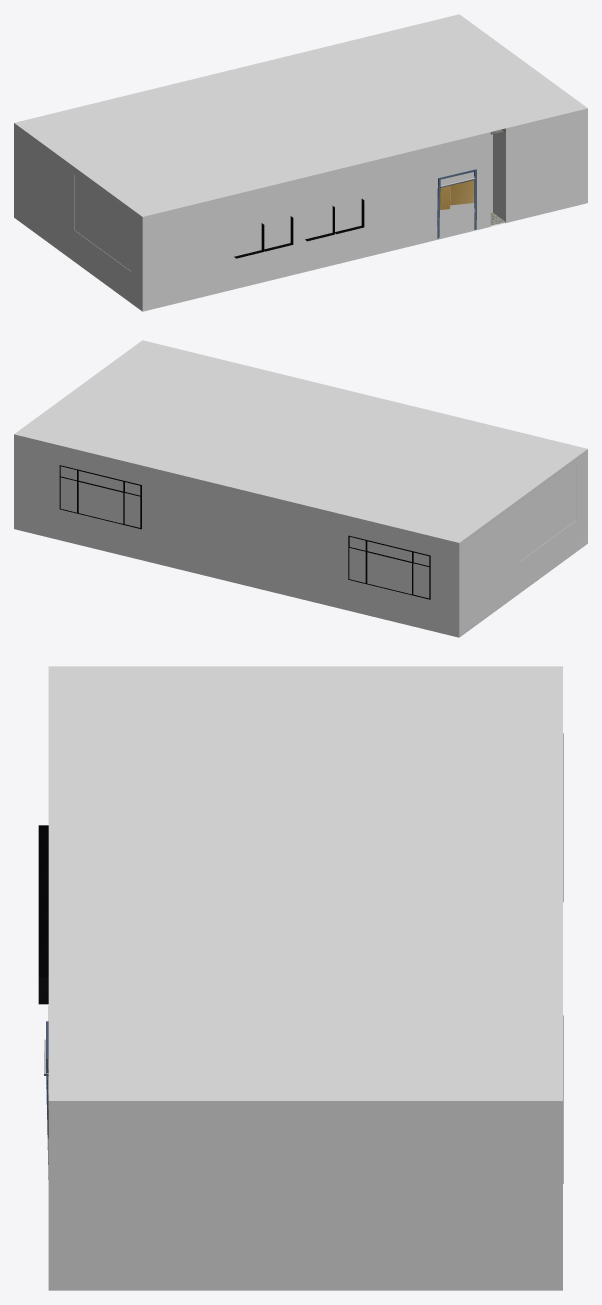
Rendered from flip aula prueba .fbx.
The picture shows the model from 3 angles, top to bottom: view 1: azimuth 30°, elevation 25°; view 2: azimuth 150°, elevation 25°; view 3: azimuth 270°, elevation 25°; orthographic projection. The views are drawn at different scales.
Visible parts, largest first — view 1: paredes, pared puerta, pared pizarron, columna, puerta.002; view 2: paredes, pared lado quesada, pared pizarron, ventana l5 parte que da a la calle, ventana l5 parte que da a la calle .001; view 3: paredes, pared fondo, ventana l5 parte que da a la calle .006.
Boxes of the visible parts, left/top/right/bottom form: paredes: left=14, top=14, right=587, bottom=271; pared puerta: left=142, top=108, right=587, bottom=311; pared pizarron: left=14, top=123, right=142, bottom=311; columna: left=490, top=128, right=505, bottom=222; puerta.002: left=437, top=169, right=476, bottom=238; paredes: left=14, top=340, right=587, bottom=561; pared lado quesada: left=14, top=434, right=459, bottom=637; pared pizarron: left=459, top=449, right=587, bottom=637; ventana l5 parte que da a la calle: left=348, top=535, right=430, bottom=599; ventana l5 parte que da a la calle .001: left=59, top=465, right=141, bottom=529; paredes: left=48, top=666, right=562, bottom=1290; pared fondo: left=49, top=1101, right=562, bottom=1290; ventana l5 parte que da a la calle .006: left=38, top=923, right=48, bottom=1004.
Bounding box in the file's own units: 3200 × 651 × 1632.
Materials: 84 (42 with a texture image).
